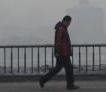person: (37, 14, 81, 92)
